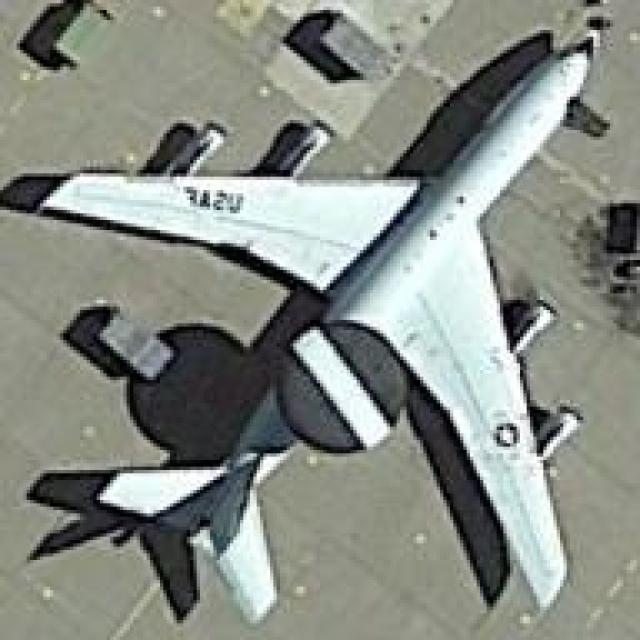E-3_TopDown: (0, 20, 603, 626)
